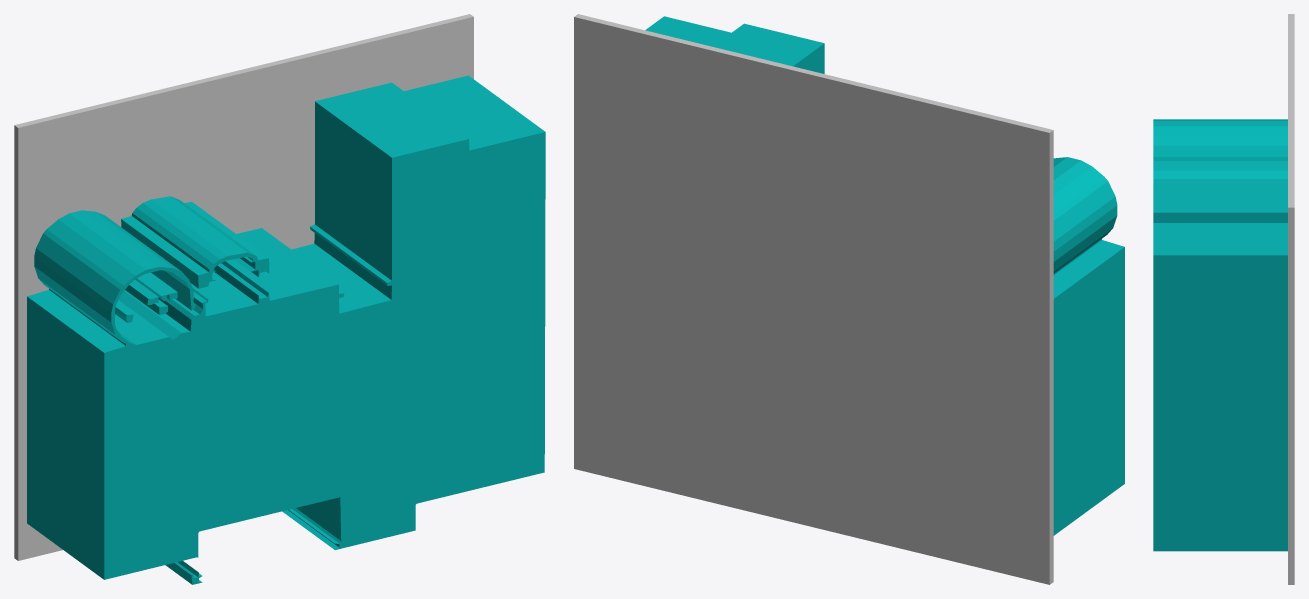
The picture shows the model from 3 angles, left to right: view 1: azimuth 30°, elevation 25°; view 2: azimuth 150°, elevation 25°; view 3: azimuth 270°, elevation 25°; orthographic projection. The views are drawn at different scales.
Visible parts, largest first — view 1: world; view 2: world; view 3: world.
Part boxes in pixels (bbox=[...]): world: bbox=[14, 14, 545, 584]; world: bbox=[574, 14, 1124, 584]; world: bbox=[1153, 14, 1294, 584].
Bounding box in the file's own units: 10.23 × 9.29 × 3.15.
